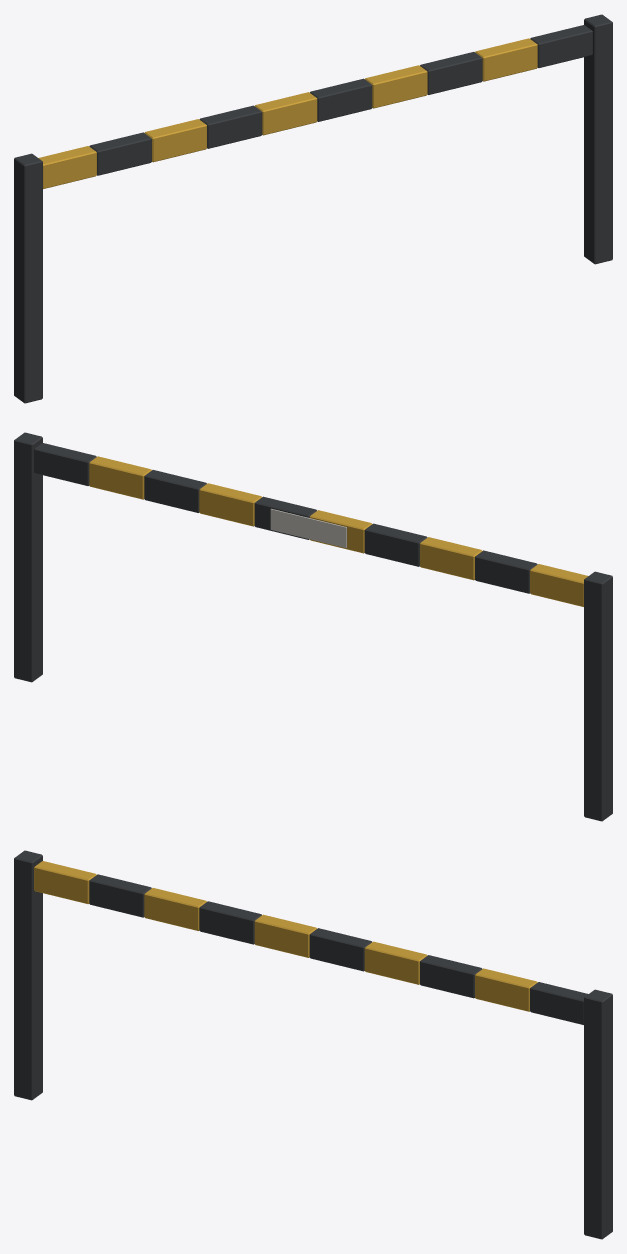
The model's file is prop_car_park_height_bar_w600.glb.
3 renders of one model, top to bottom at view 1: azimuth 30°, elevation 25°; view 2: azimuth 150°, elevation 25°; view 3: azimuth 330°, elevation 25°, orthographic.
Visible parts, largest first — view 1: Body; view 2: Body; view 3: Body.
Part boxes in pixels (x1=…): Body: x1=14, y1=14, x2=612, y2=403; Body: x1=14, y1=432, x2=612, y2=821; Body: x1=14, y1=850, x2=612, y2=1239.
Size of what is drawn, in the model's own units: 6.2 by 2.4 by 0.2.
